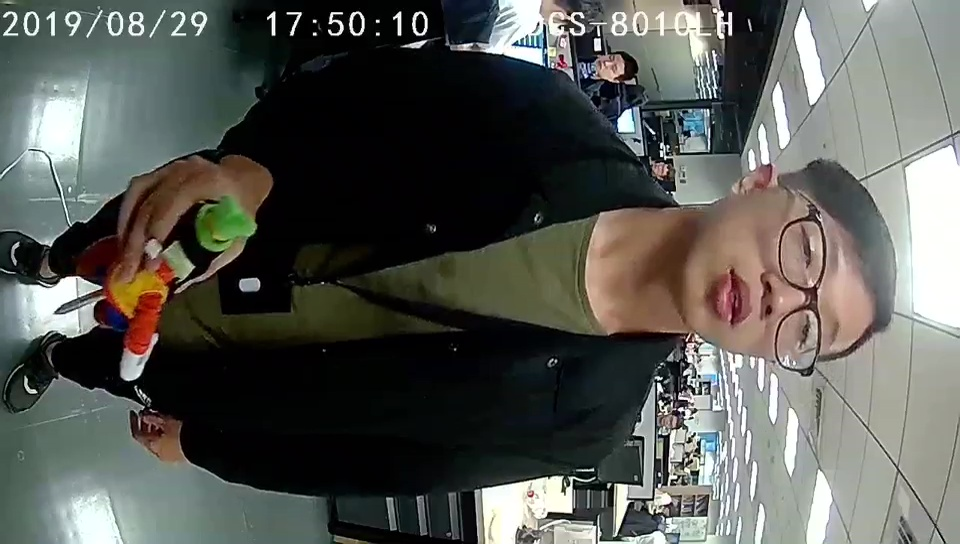goofy: (94, 196, 256, 382)
